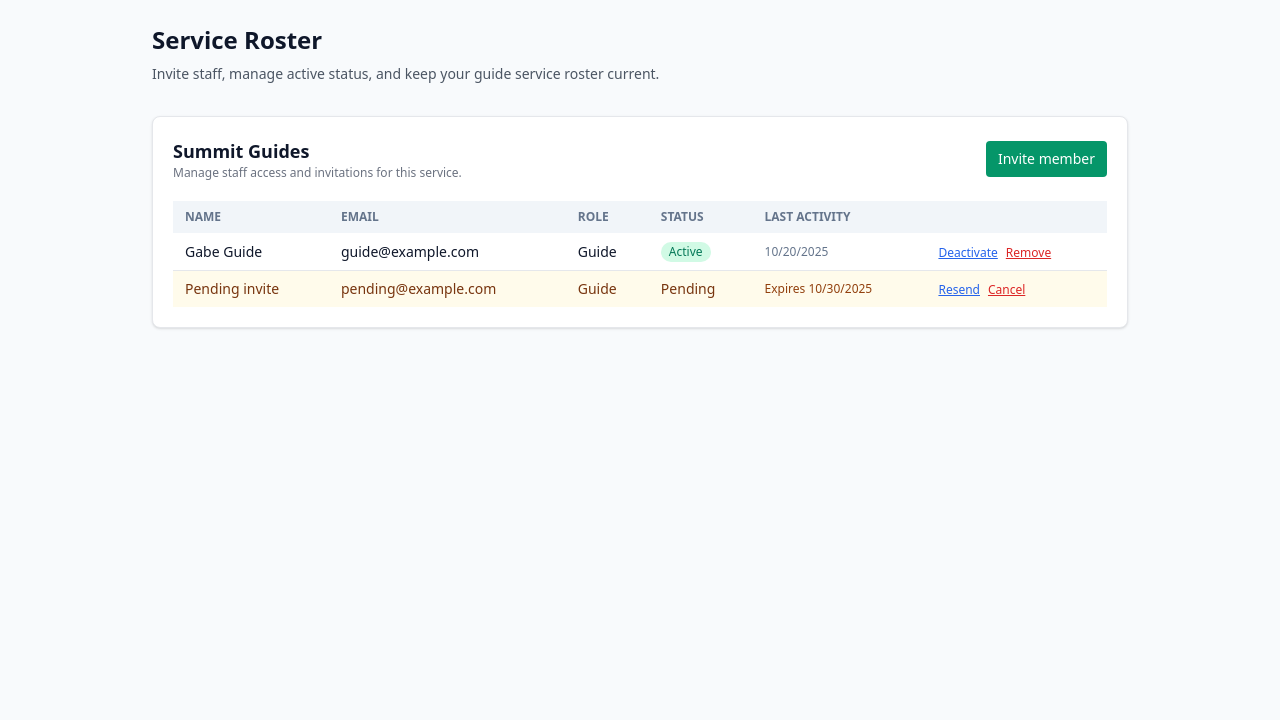
Scenario: ServiceRosterPage › invites a new member
Click the button "Invite member" at (1046,159), box x1=986 y1=141 x2=1107 y2=177
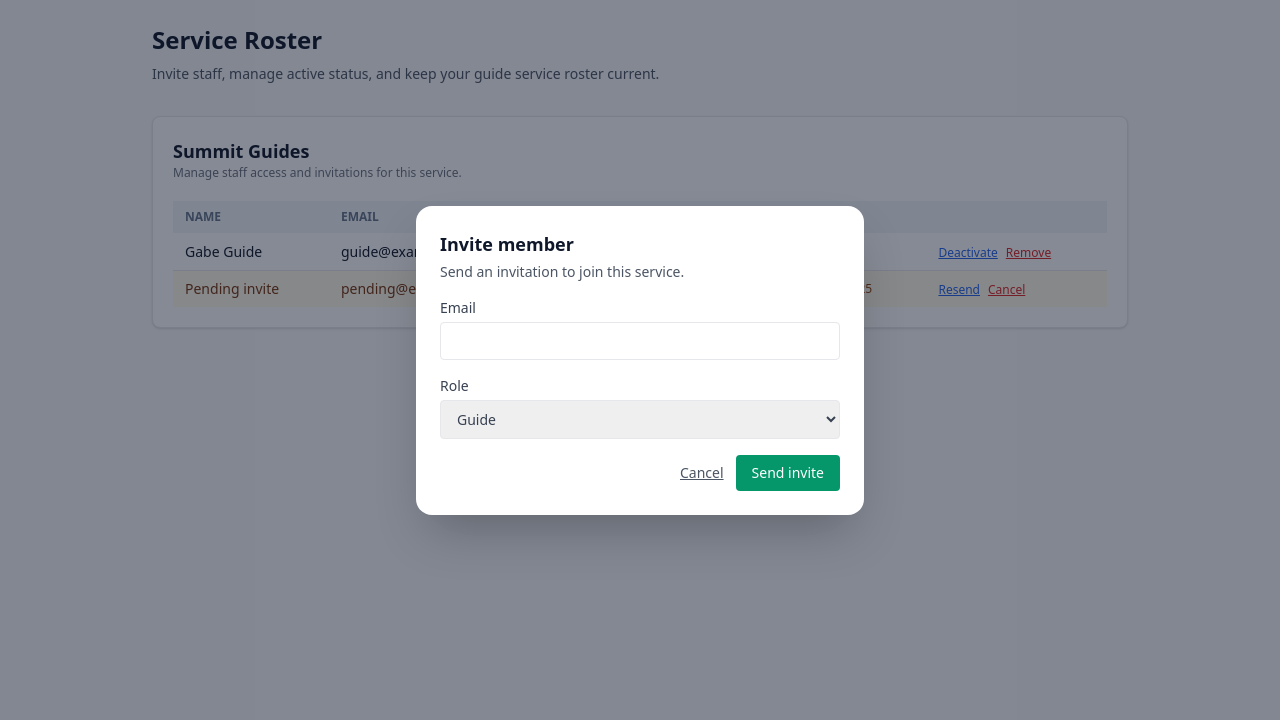
Type "new@example.com" into the field labelled "Email" at (640,340), box x1=440 y1=322 x2=840 y2=360
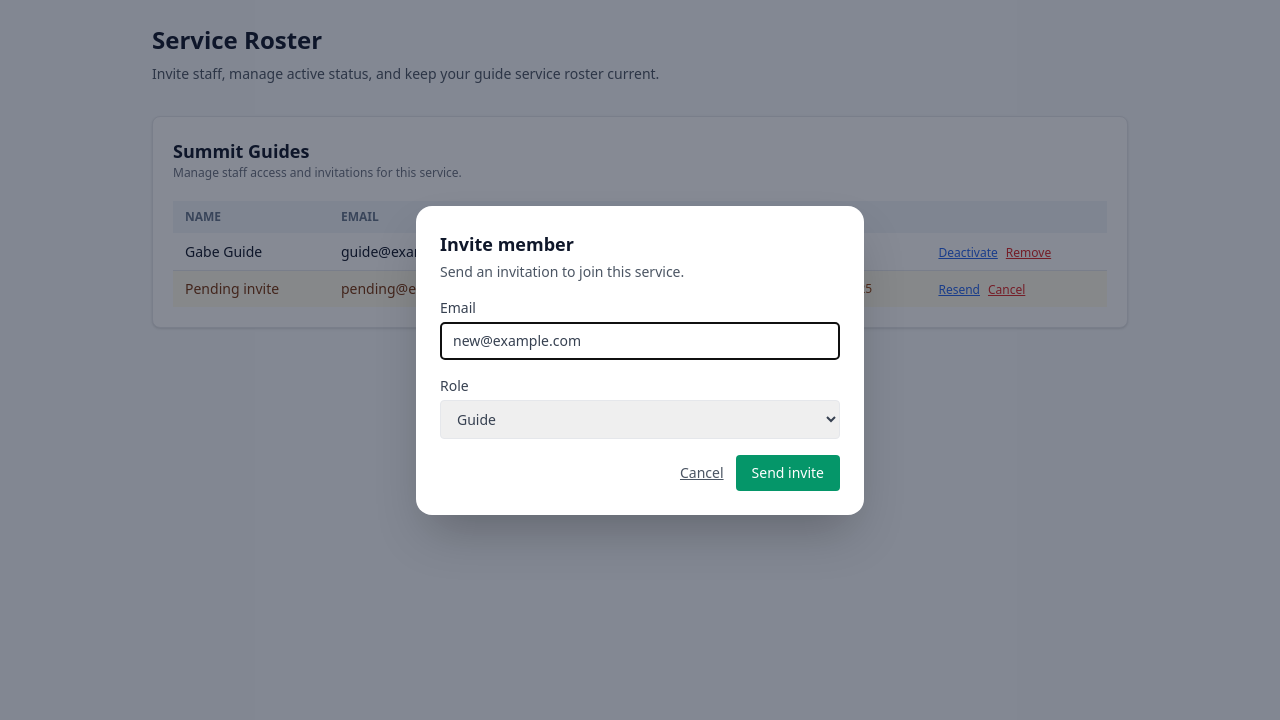
Select "Guide" in the dropdown labelled "Role" at (640,419), box x1=440 y1=400 x2=840 y2=438
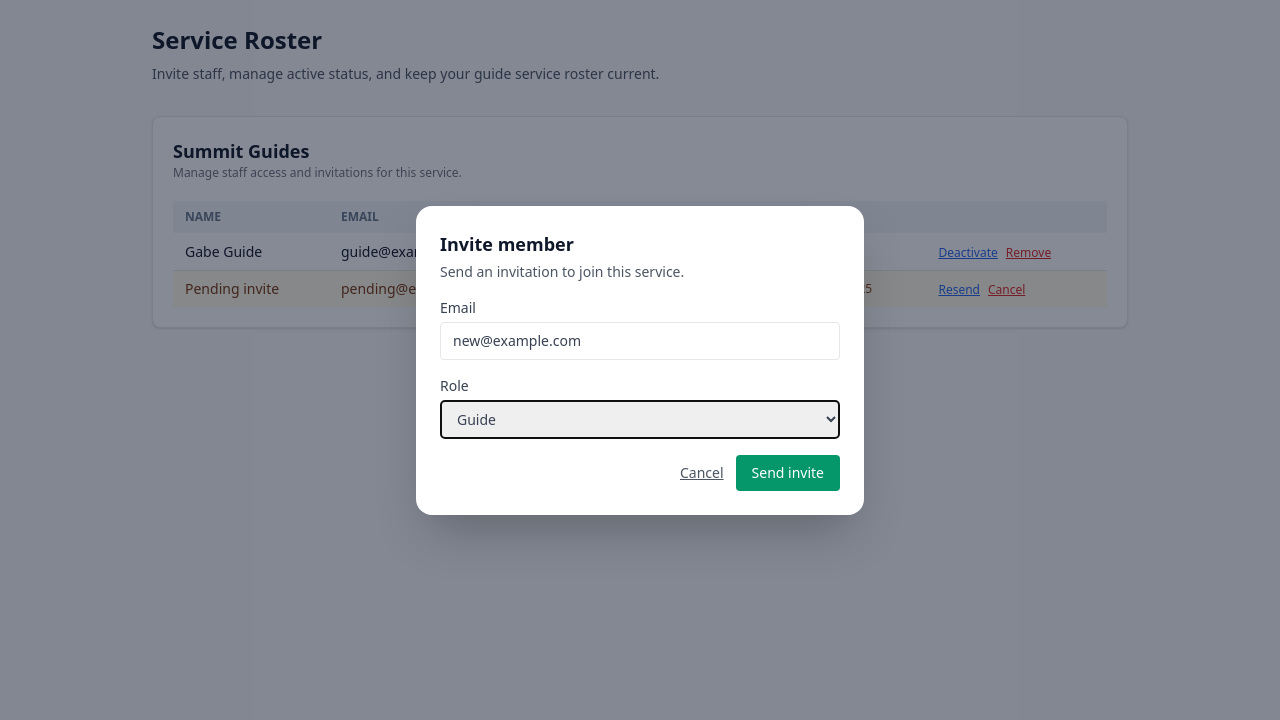
Click the button "Send invite" at (788,472), box x1=736 y1=454 x2=840 y2=490
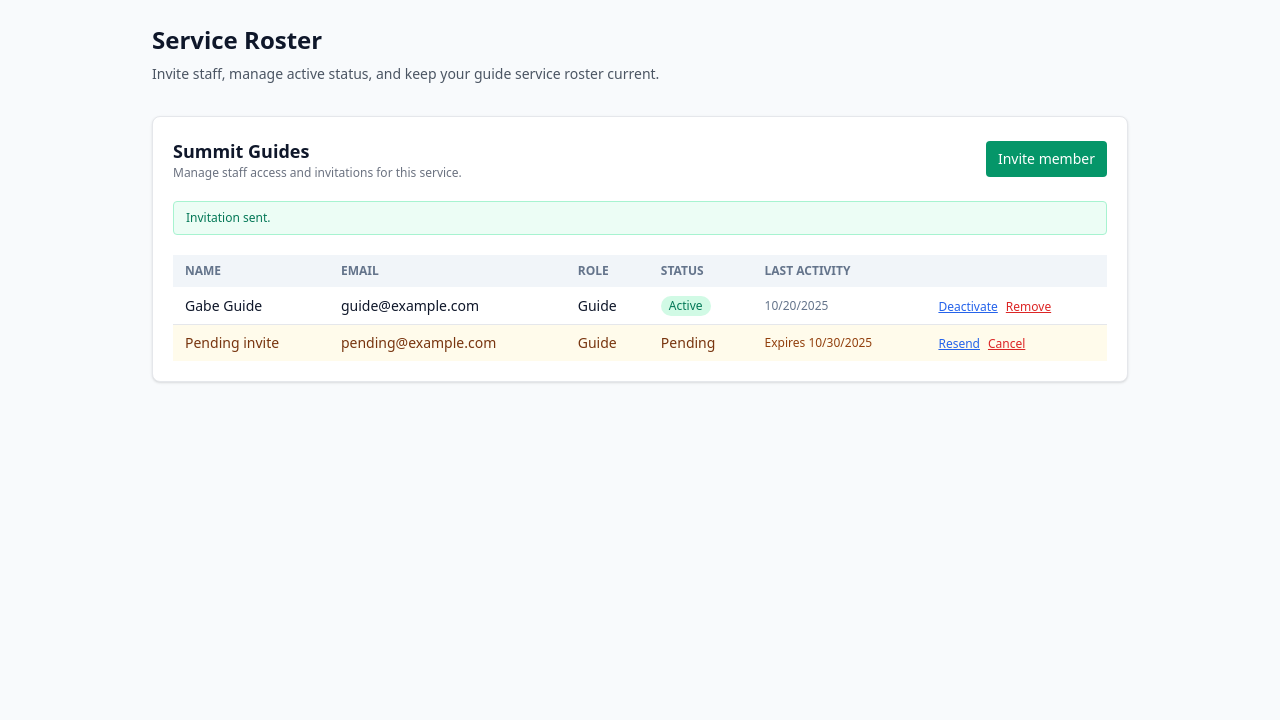
Check: the text "Invitation sent." is shown, box x1=173 y1=201 x2=1107 y2=235
